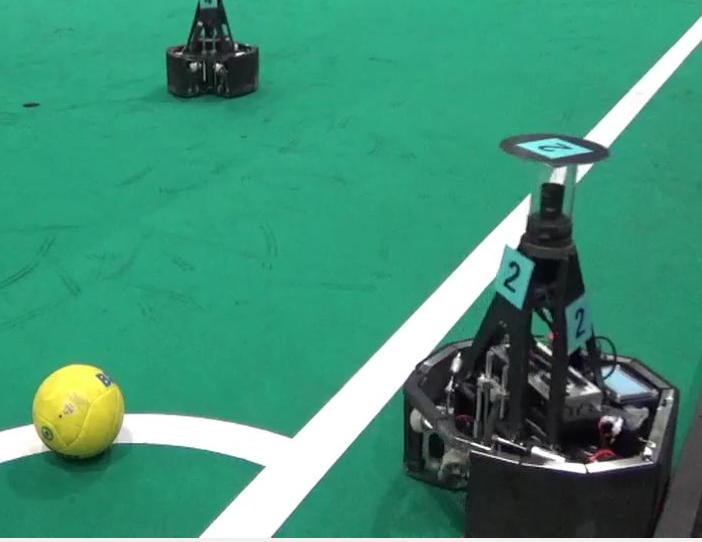robot: (395, 122, 683, 539), (154, 1, 271, 102)
